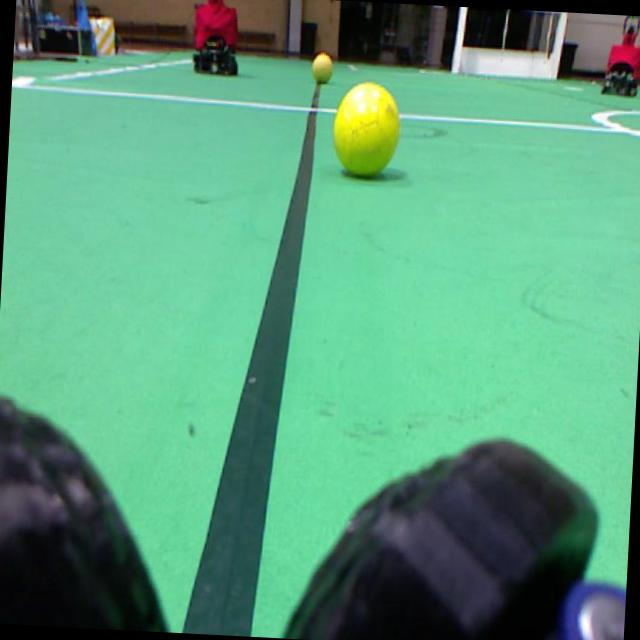ball: (333, 82, 399, 175), (312, 52, 332, 83)
goal: (550, 12, 566, 79), (451, 7, 467, 73)
